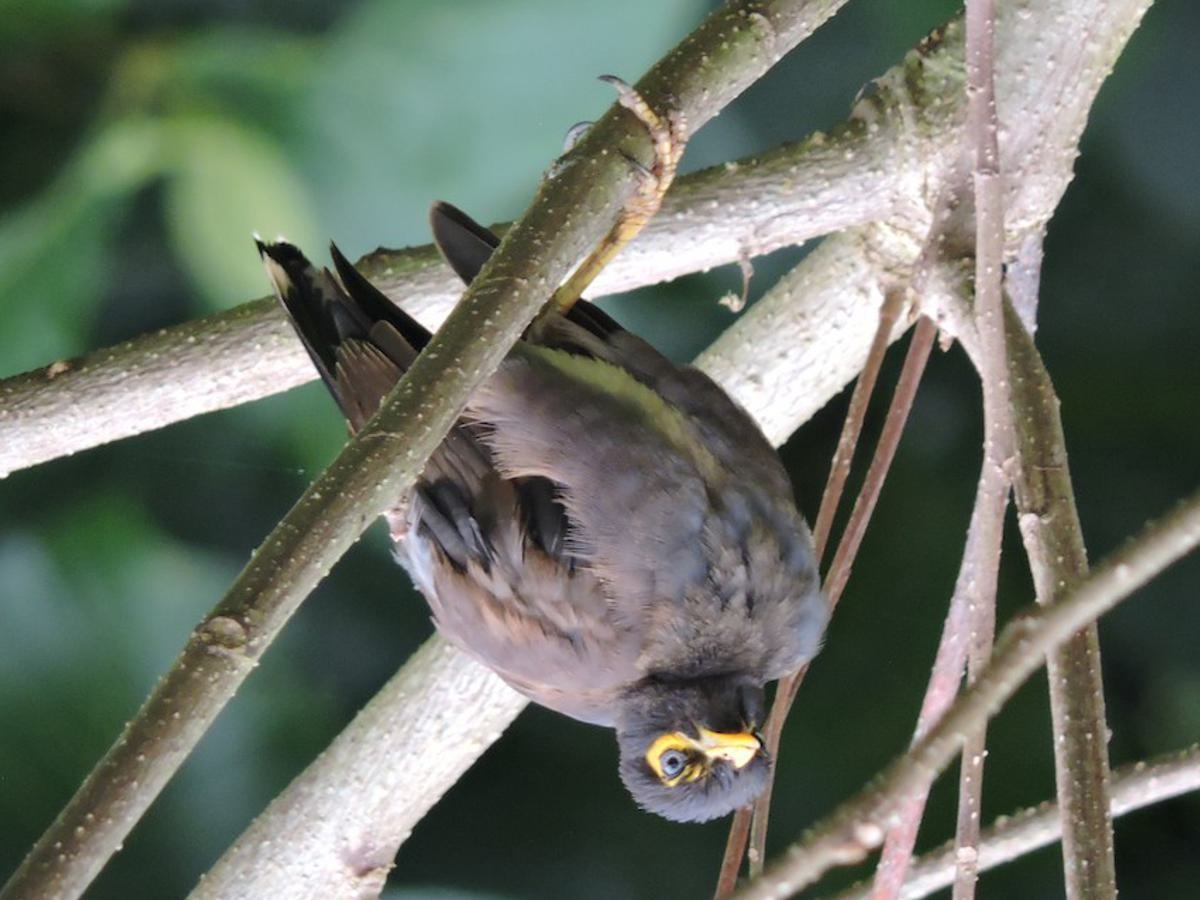myna: (299, 222, 837, 843)
